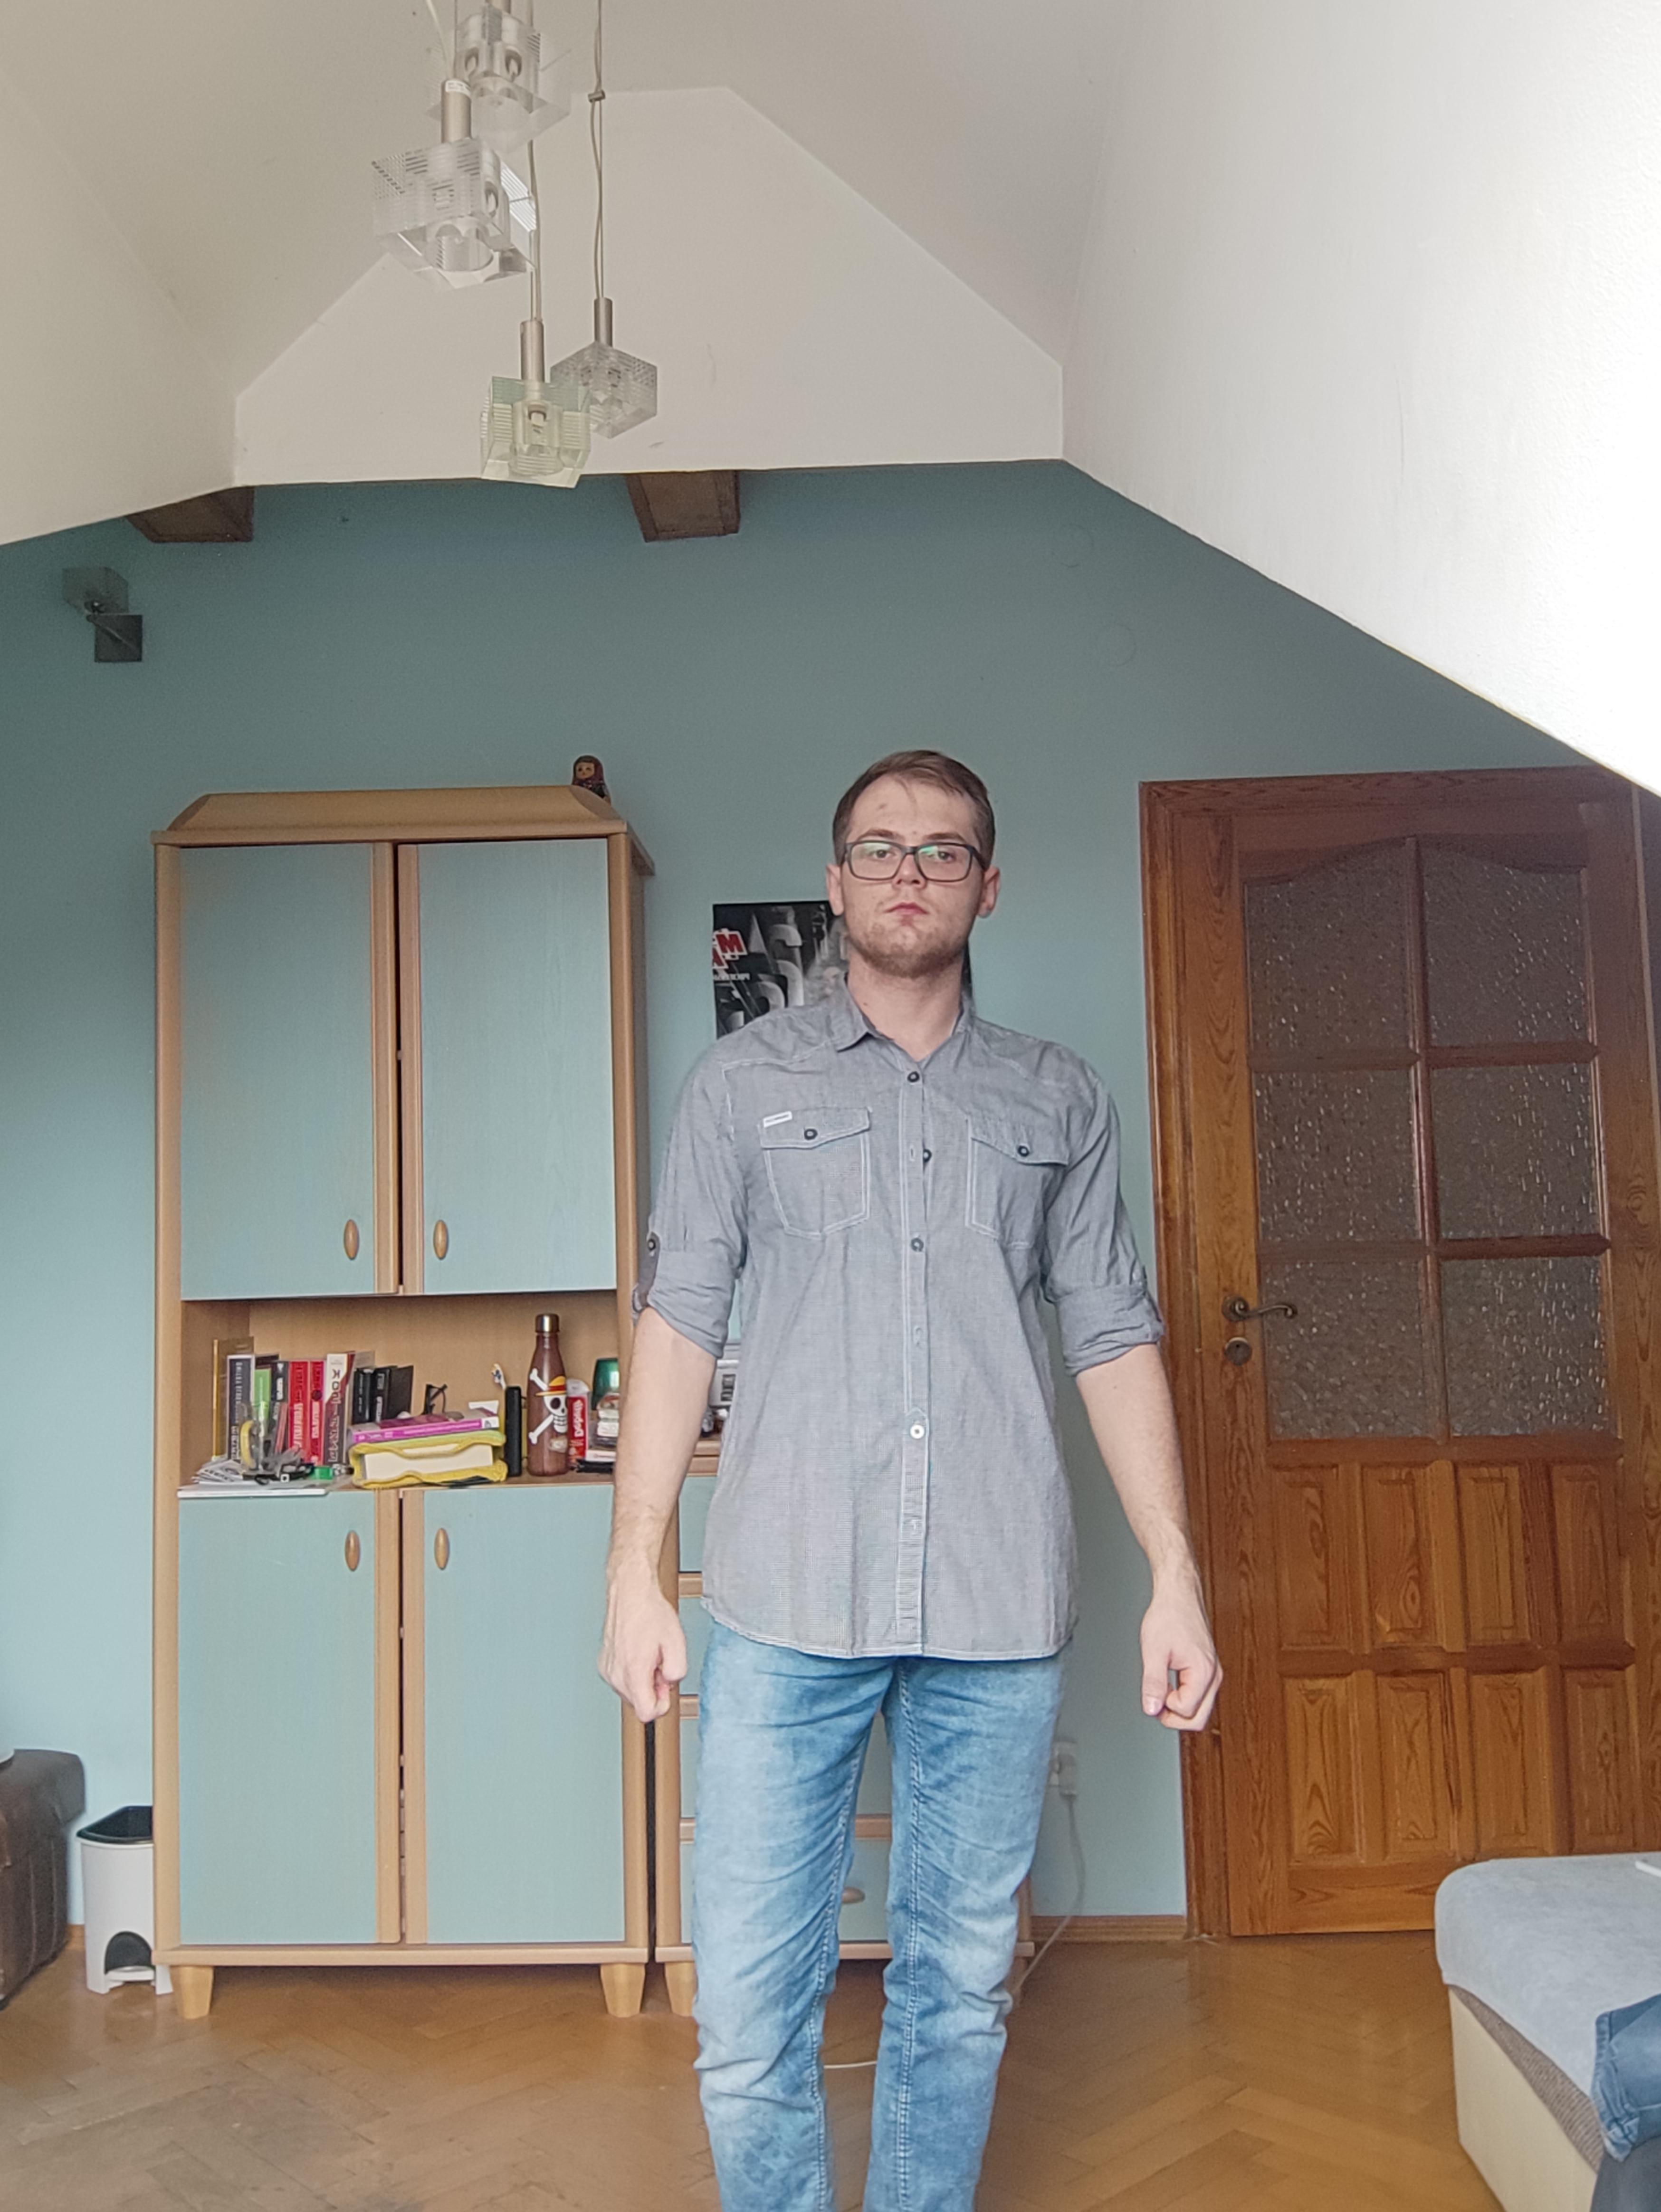pants: (689, 1560, 1064, 2212)
shirt: (630, 963, 1164, 1662)
